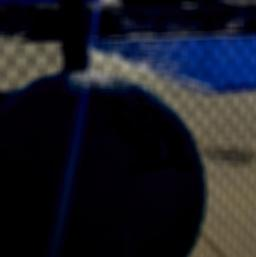algae: (0, 67, 215, 257)
